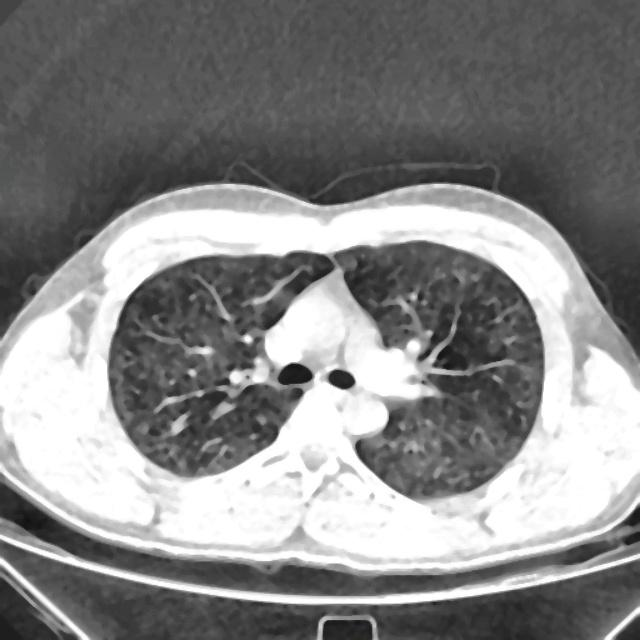covid: (0, 178, 639, 579)
